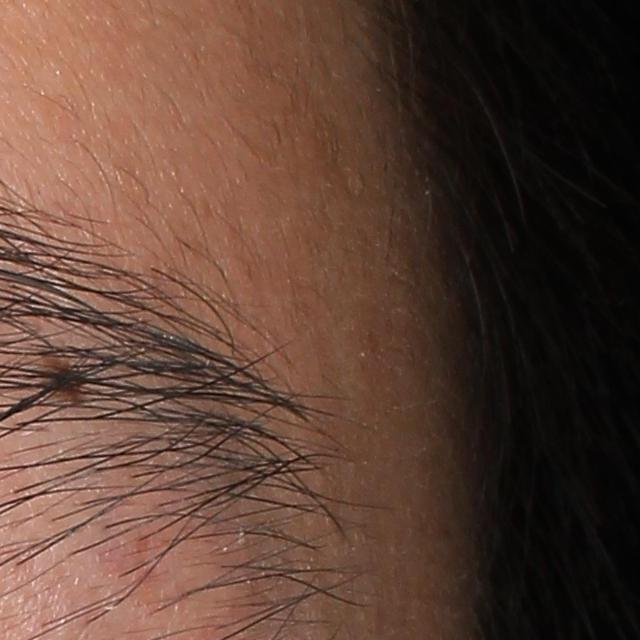nevus: (42, 349, 82, 401)
